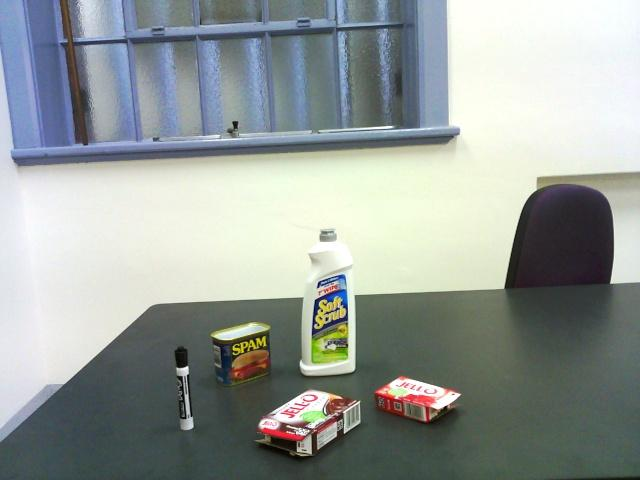008_pudding_box: (260, 387, 364, 454)
009_gelatin_box: (369, 375, 463, 424)
010_potted_meat_can: (210, 319, 277, 386)
021_bleach_cleanser: (302, 218, 355, 380)
040_large_marker: (171, 344, 197, 434)
